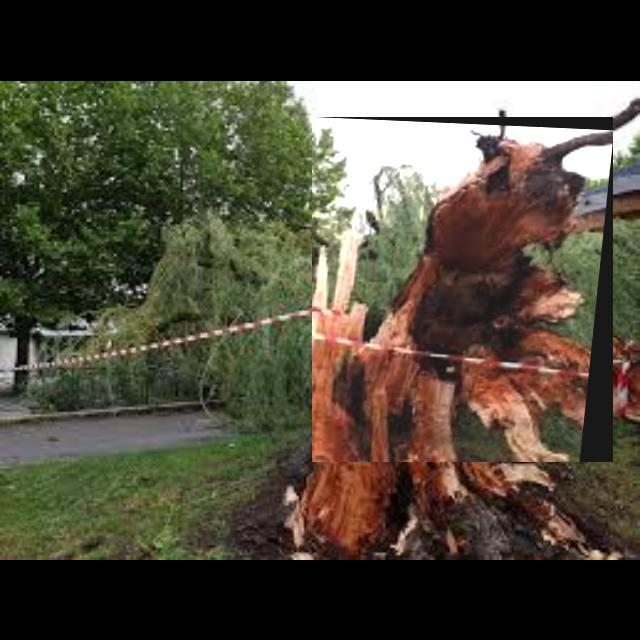fallen_tree: (312, 117, 614, 463)
